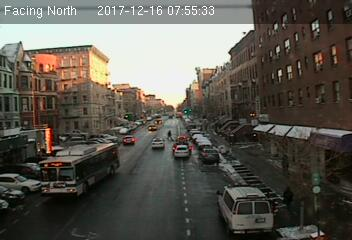bus: (36, 143, 119, 200)
car: (199, 148, 220, 162), (174, 145, 188, 157), (152, 137, 164, 148), (122, 135, 135, 145)
pedestrian: (283, 185, 295, 212)
police: (215, 181, 277, 235)
